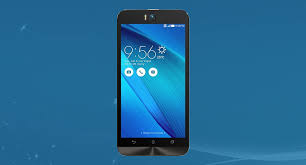asus: (114, 7, 192, 158)
